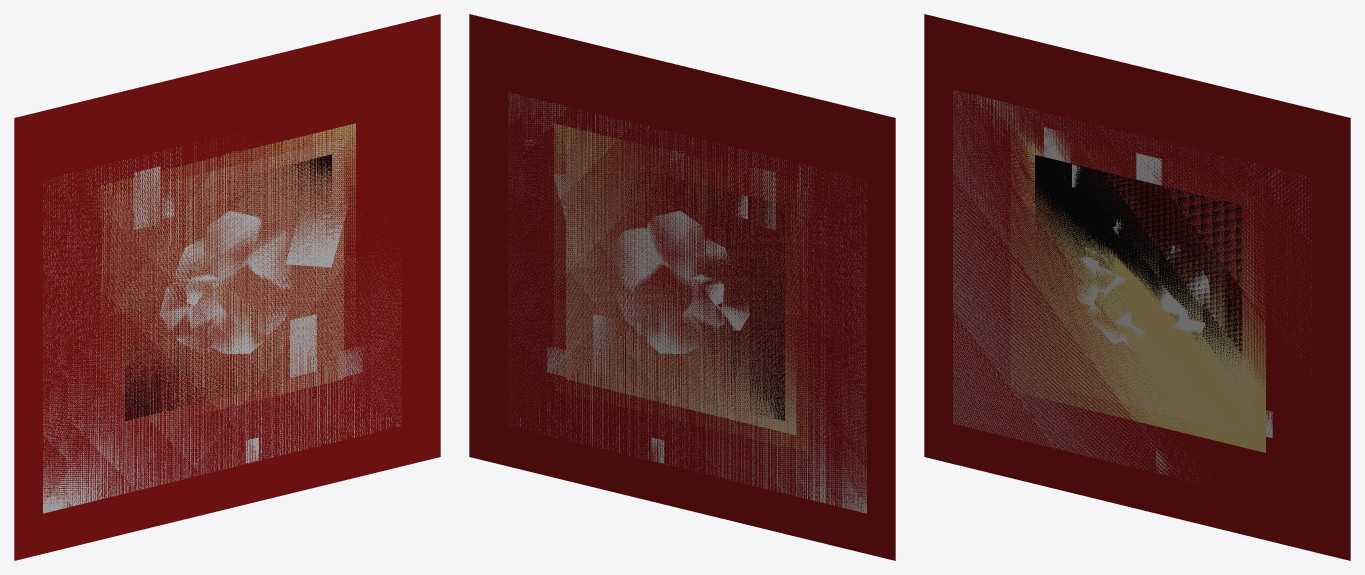
Rendered from Skeleton Prefab Mesh _Eb_Wisp_01_.glb.
The picture shows the model from 3 angles, left to right: view 1: azimuth 30°, elevation 25°; view 2: azimuth 150°, elevation 25°; view 3: azimuth 330°, elevation 25°; orthographic projection.
Visible parts, largest first — view 1: Skeleton Prefab Mesh "Eb_Wisp_01"; view 2: Skeleton Prefab Mesh "Eb_Wisp_01"; view 3: Skeleton Prefab Mesh "Eb_Wisp_01".
Boxes of the visible parts, left/top/right/bottom form: Skeleton Prefab Mesh "Eb_Wisp_01": left=14, top=14, right=440, bottom=560; Skeleton Prefab Mesh "Eb_Wisp_01": left=469, top=14, right=895, bottom=560; Skeleton Prefab Mesh "Eb_Wisp_01": left=924, top=14, right=1350, bottom=560.
Bounding box in the file's own units: 6.05 × 6.01 × 0.
